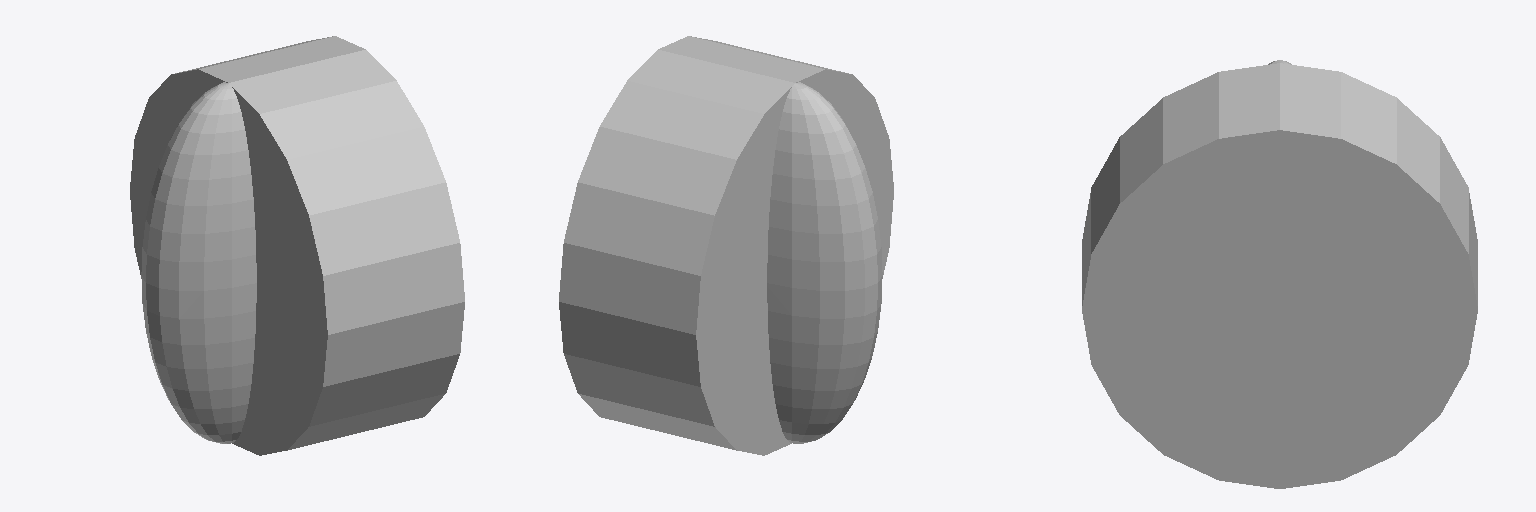
File: perilla4.obj
3 renders of one model, left to right at view 1: azimuth 30°, elevation 25°; view 2: azimuth 150°, elevation 25°; view 3: azimuth 270°, elevation 25°, orthographic.
Visible parts, largest first — view 1: cuarto:cuarto:polySurface11600; view 2: cuarto:cuarto:polySurface11600; view 3: cuarto:cuarto:polySurface11600.
Boxes of the visible parts, x1,y1,x2,y2 form: cuarto:cuarto:polySurface11600: [130, 36, 464, 455]; cuarto:cuarto:polySurface11600: [559, 36, 893, 455]; cuarto:cuarto:polySurface11600: [1082, 60, 1477, 488].
Bounding box in the file's own units: 0.0961 × 0.1498 × 0.1498.